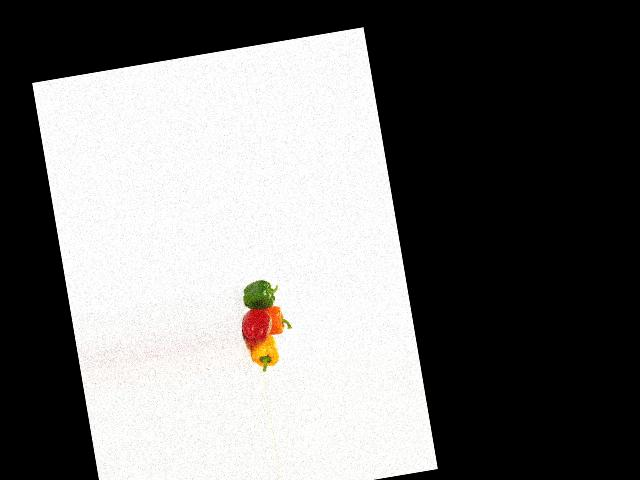bell_pepper: (235, 277, 279, 314)
